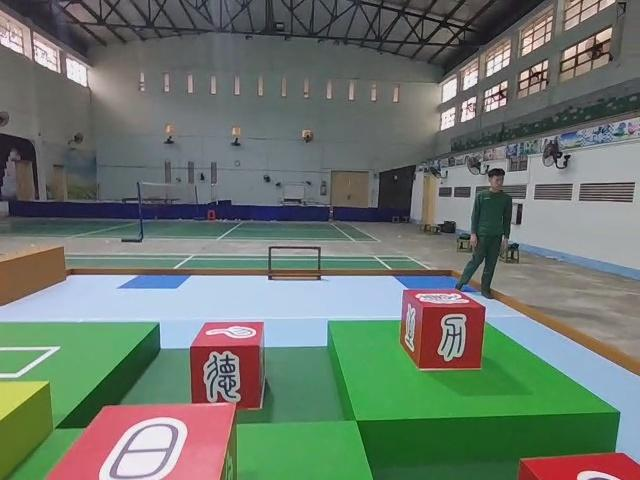R2 Fake: (46, 404, 238, 480), (399, 290, 487, 370), (190, 319, 264, 407)
